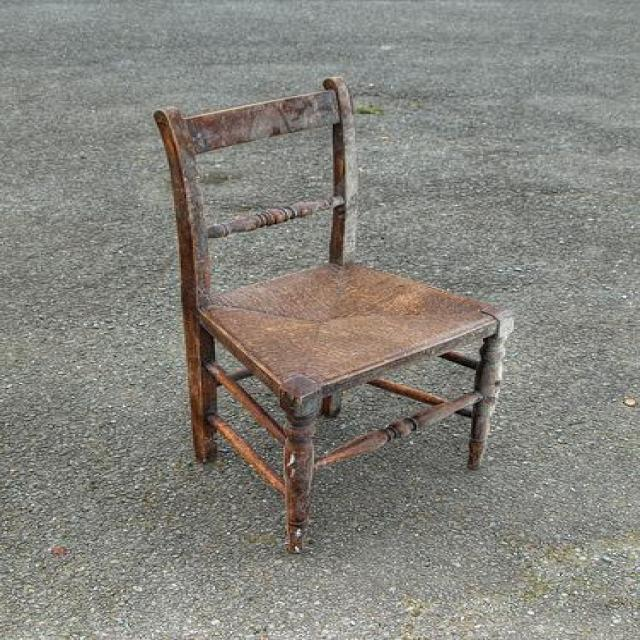chair: (153, 72, 512, 554)
